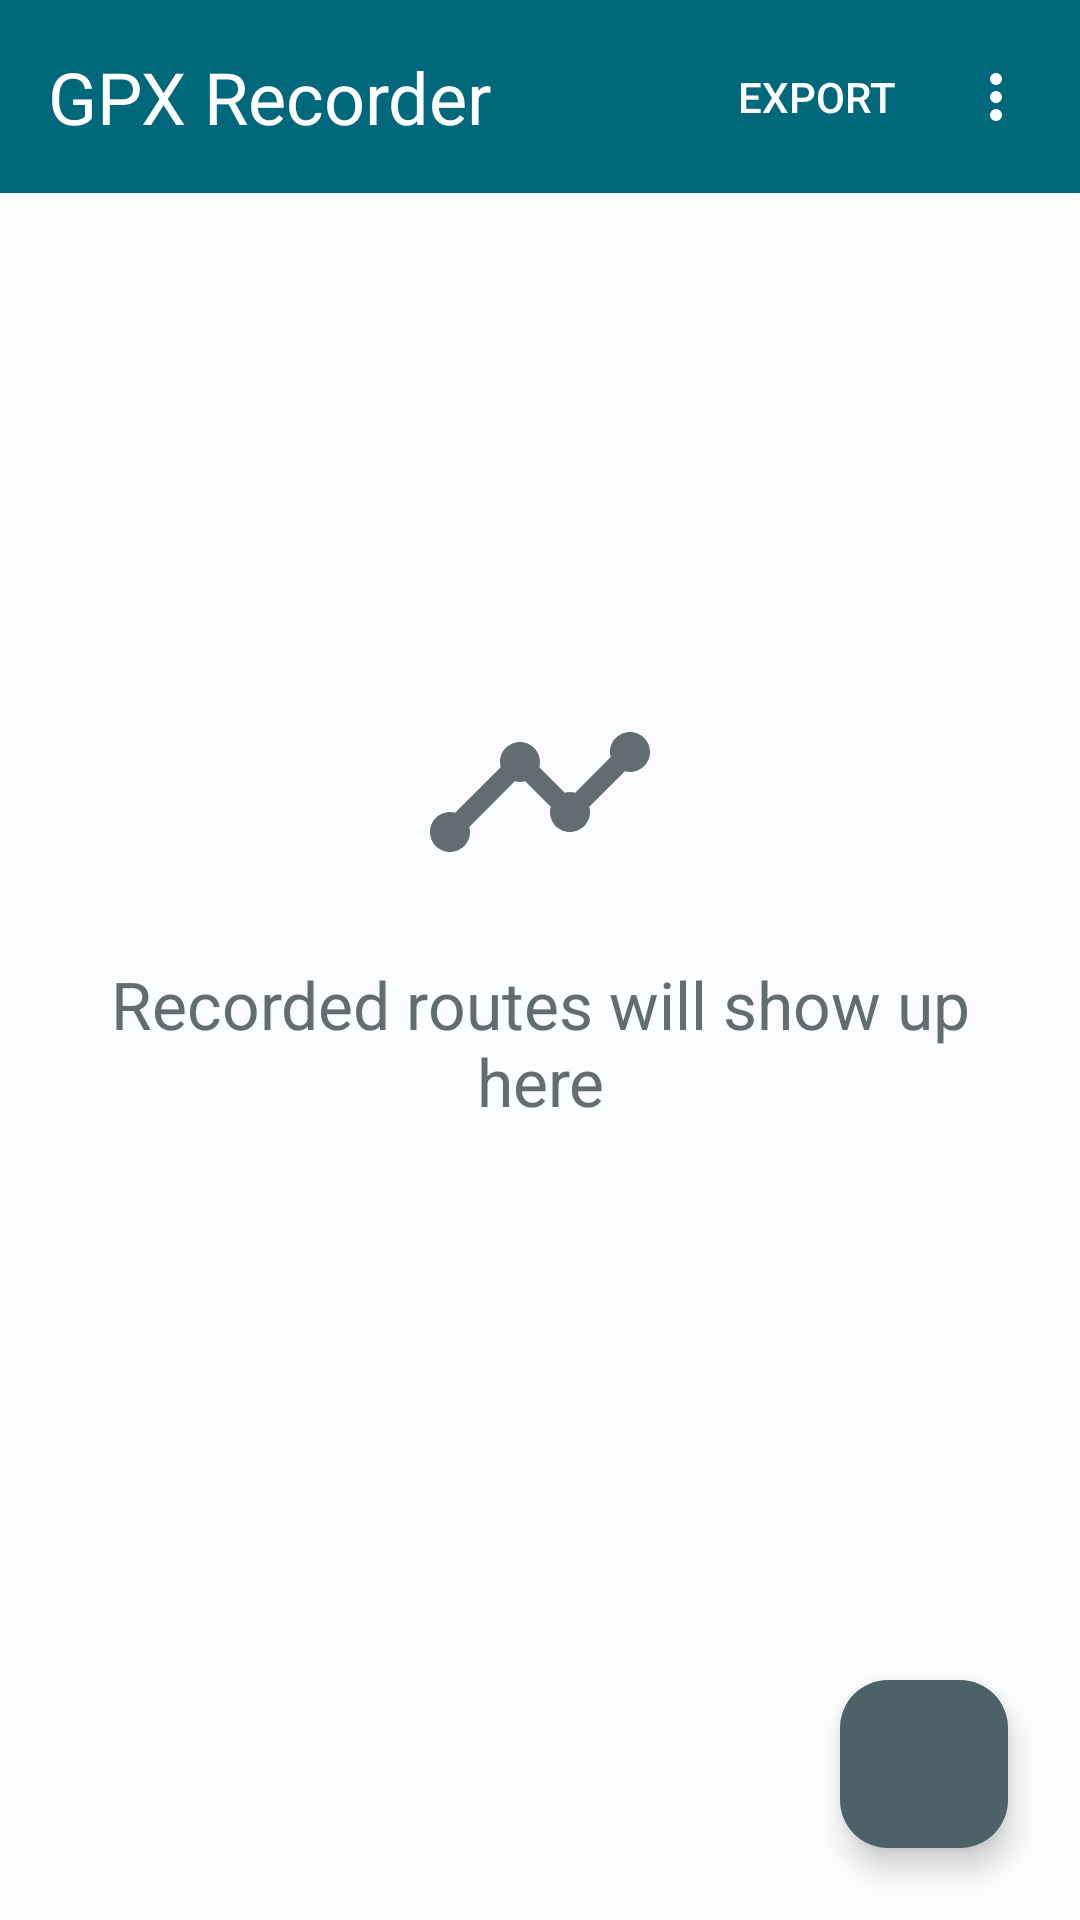

Named icons in this screenshot (1080*1920) and their bounding boxes, {"left": x1, "top": y1, "right": x2, "bottom": y2}:
more: {"left": 990, "top": 73, "right": 1002, "bottom": 121}
